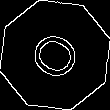O_SE: (22, 24, 88, 86)
